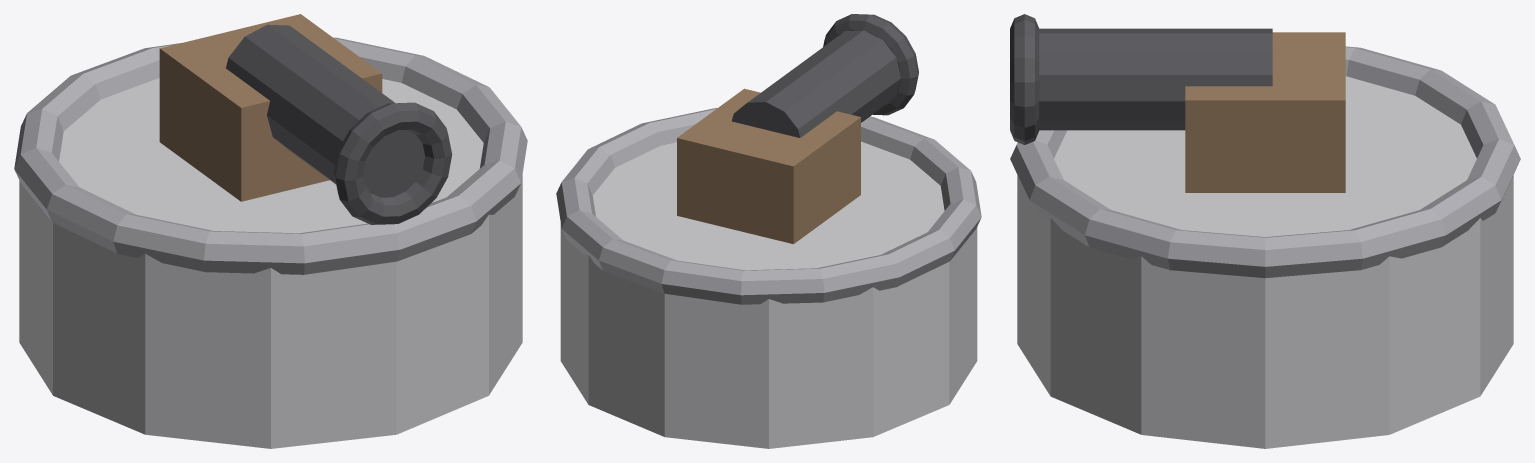
The model's file is cannon-1.glb.
3 views of the same model, side by side, from view 1: azimuth 30°, elevation 25°; view 2: azimuth 150°, elevation 25°; view 3: azimuth 270°, elevation 25° (orthographic). The views are drawn at different scales.
Visible parts, largest first — view 1: cannon-1 base, cannon-1 rim, cannon-1 mount, cannon-1 barrel, cannon-1 muzzle; view 2: cannon-1 base, cannon-1 rim, cannon-1 mount, cannon-1 barrel, cannon-1 muzzle; view 3: cannon-1 base, cannon-1 rim, cannon-1 mount, cannon-1 barrel, cannon-1 muzzle.
Part boxes in pixels (x1,y1,x2,y2): cannon-1 base: (19,78,522,448); cannon-1 rim: (14,37,527,274); cannon-1 mount: (159,14,382,201); cannon-1 barrel: (226,24,424,197); cannon-1 muzzle: (334,102,452,224); cannon-1 base: (560,141,977,448); cannon-1 rim: (556,108,981,304); cannon-1 mount: (677,88,860,244); cannon-1 barrel: (731,30,900,137); cannon-1 muzzle: (823,14,918,115); cannon-1 base: (1017,76,1513,448); cannon-1 rim: (1010,46,1520,278); cannon-1 mount: (1185,32,1345,192); cannon-1 barrel: (1039,28,1272,130); cannon-1 muzzle: (1010,14,1039,144).
Bounding box in the file's own units: 0.7 × 0.49 × 0.7.
